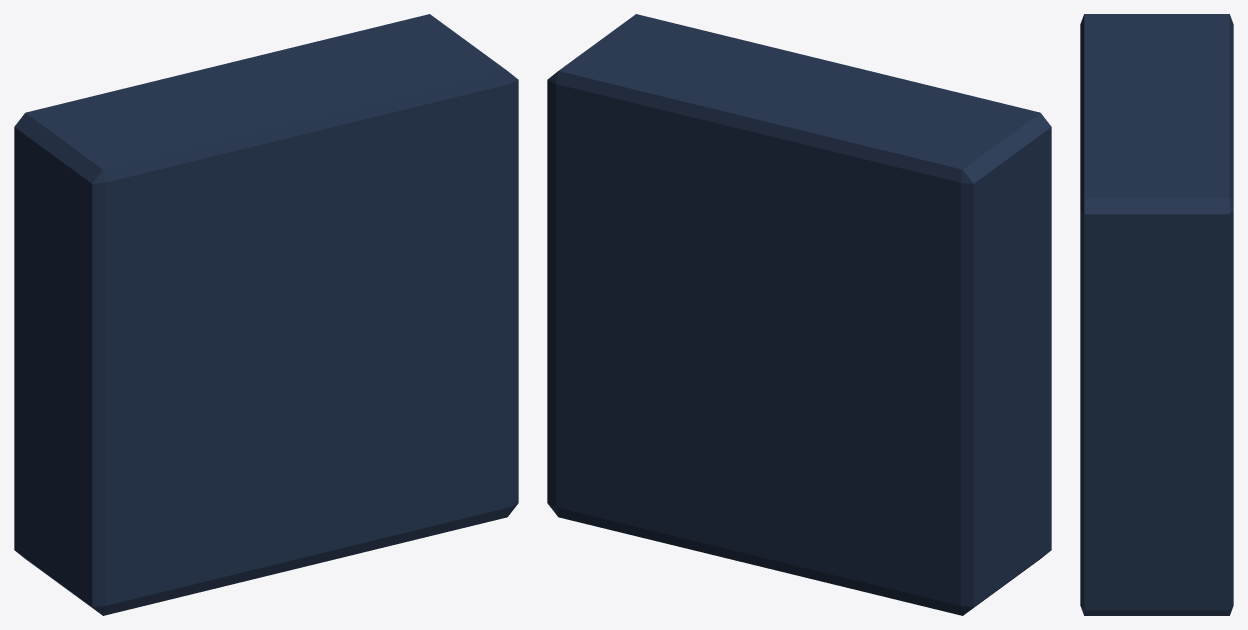
The model's file is 1xObstacle-Half.fbx.
3 views of the same model, side by side, from view 1: azimuth 30°, elevation 25°; view 2: azimuth 150°, elevation 25°; view 3: azimuth 270°, elevation 25° (orthographic). The views are drawn at different scales.
Visible parts, largest first — view 1: Cube.001; view 2: Cube.001; view 3: Cube.001.
Part boxes in pixels (<box>): Cube.001: <box>14,14,518,615</box>; Cube.001: <box>547,14,1051,615</box>; Cube.001: <box>1080,14,1233,615</box>.
Size of the model in its own units: 600 by 600 by 200.
